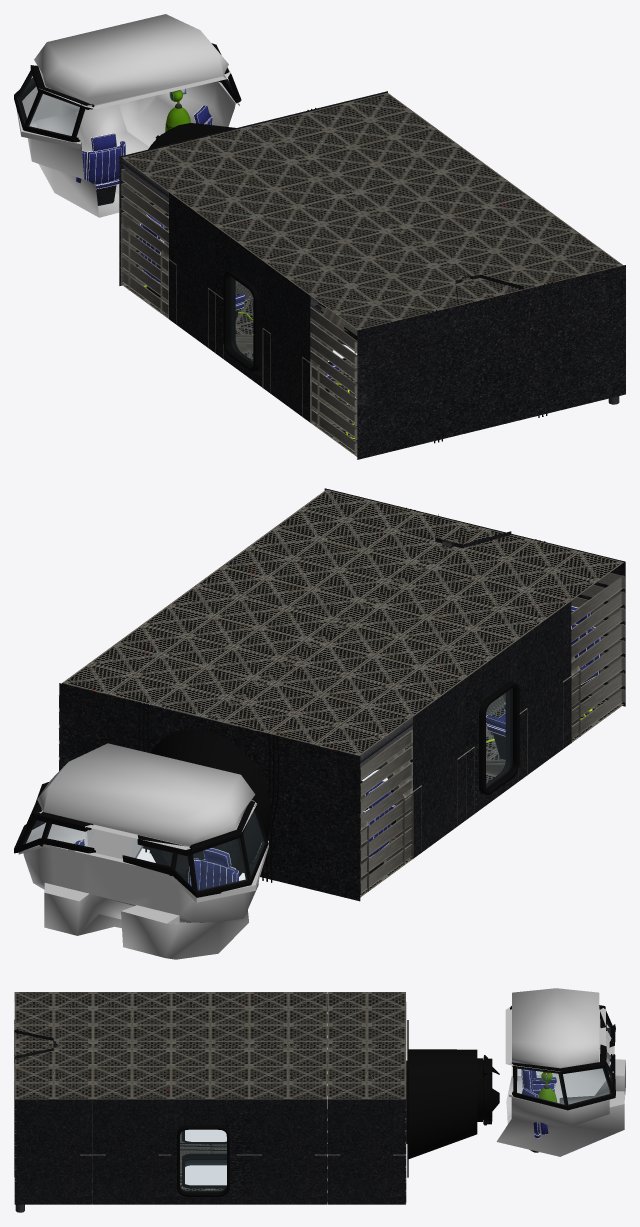
The model's file is space.FBX.
3 renders of one model, top to bottom at view 1: azimuth 30°, elevation 25°; view 2: azimuth 150°, elevation 25°; view 3: azimuth 270°, elevation 25°, orthographic. The views are drawn at different scales.
Parts seen in each view (by area): view 1: Object016, Box071, Object037, Box053, Object029, Object036, Object041, Object022, Object033, Object042, Box077; view 2: Object016, Object037, Box071, Object033, Object042, Object041, Object029, Box053, Object022, Box077, Object036, Object034 (+1 smaller); view 3: Object016, Box071, Object037, Object042, Object022, Object041, Object029, pma3-ext, Object036, Line024, NLO_PERS_BODI002.
Part boxes in pixels (x1,y1,x2,y2): Object016: (122,92,623,456); Box071: (121,127,625,459); Object037: (14,14,241,217); Box053: (121,102,540,428); Object029: (223,270,357,371); Object036: (76,133,125,205); Object041: (18,75,228,135); Object022: (232,278,353,363); Object033: (119,91,387,285); Object042: (148,123,235,149); Box077: (139,214,357,398); Object016: (62,489,623,897); Object037: (14,743,268,959); Box071: (62,488,625,893); Object033: (58,683,360,901); Object042: (149,729,271,876); Object041: (25,812,263,890); Object029: (248,681,519,794); Box053: (102,538,580,891); Object022: (361,690,509,785); Box077: (141,606,601,874); Object036: (187,848,239,922); Object034: (138,702,279,882); Object016: (14,992,405,1204); Box071: (14,992,406,1212); Object037: (496,988,625,1156); Object042: (408,1049,477,1158); Object022: (180,1130,226,1190); Object041: (517,1024,610,1104); Object029: (177,1125,229,1196); pma3-ext: (406,1055,499,1143); Object036: (521,1069,556,1094); Line024: (14,1019,327,1176); NLO_PERS_BODI002: (538,1072,557,1102).
Size of the model in its own units: 4481 by 2449 by 10423.
